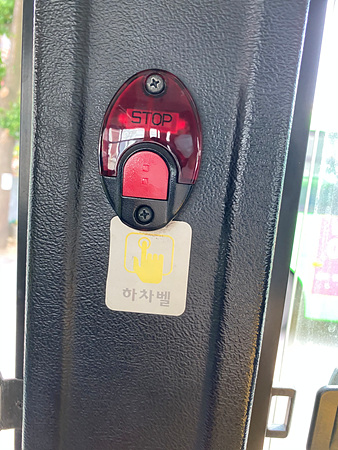bell: (100, 68, 201, 229)
